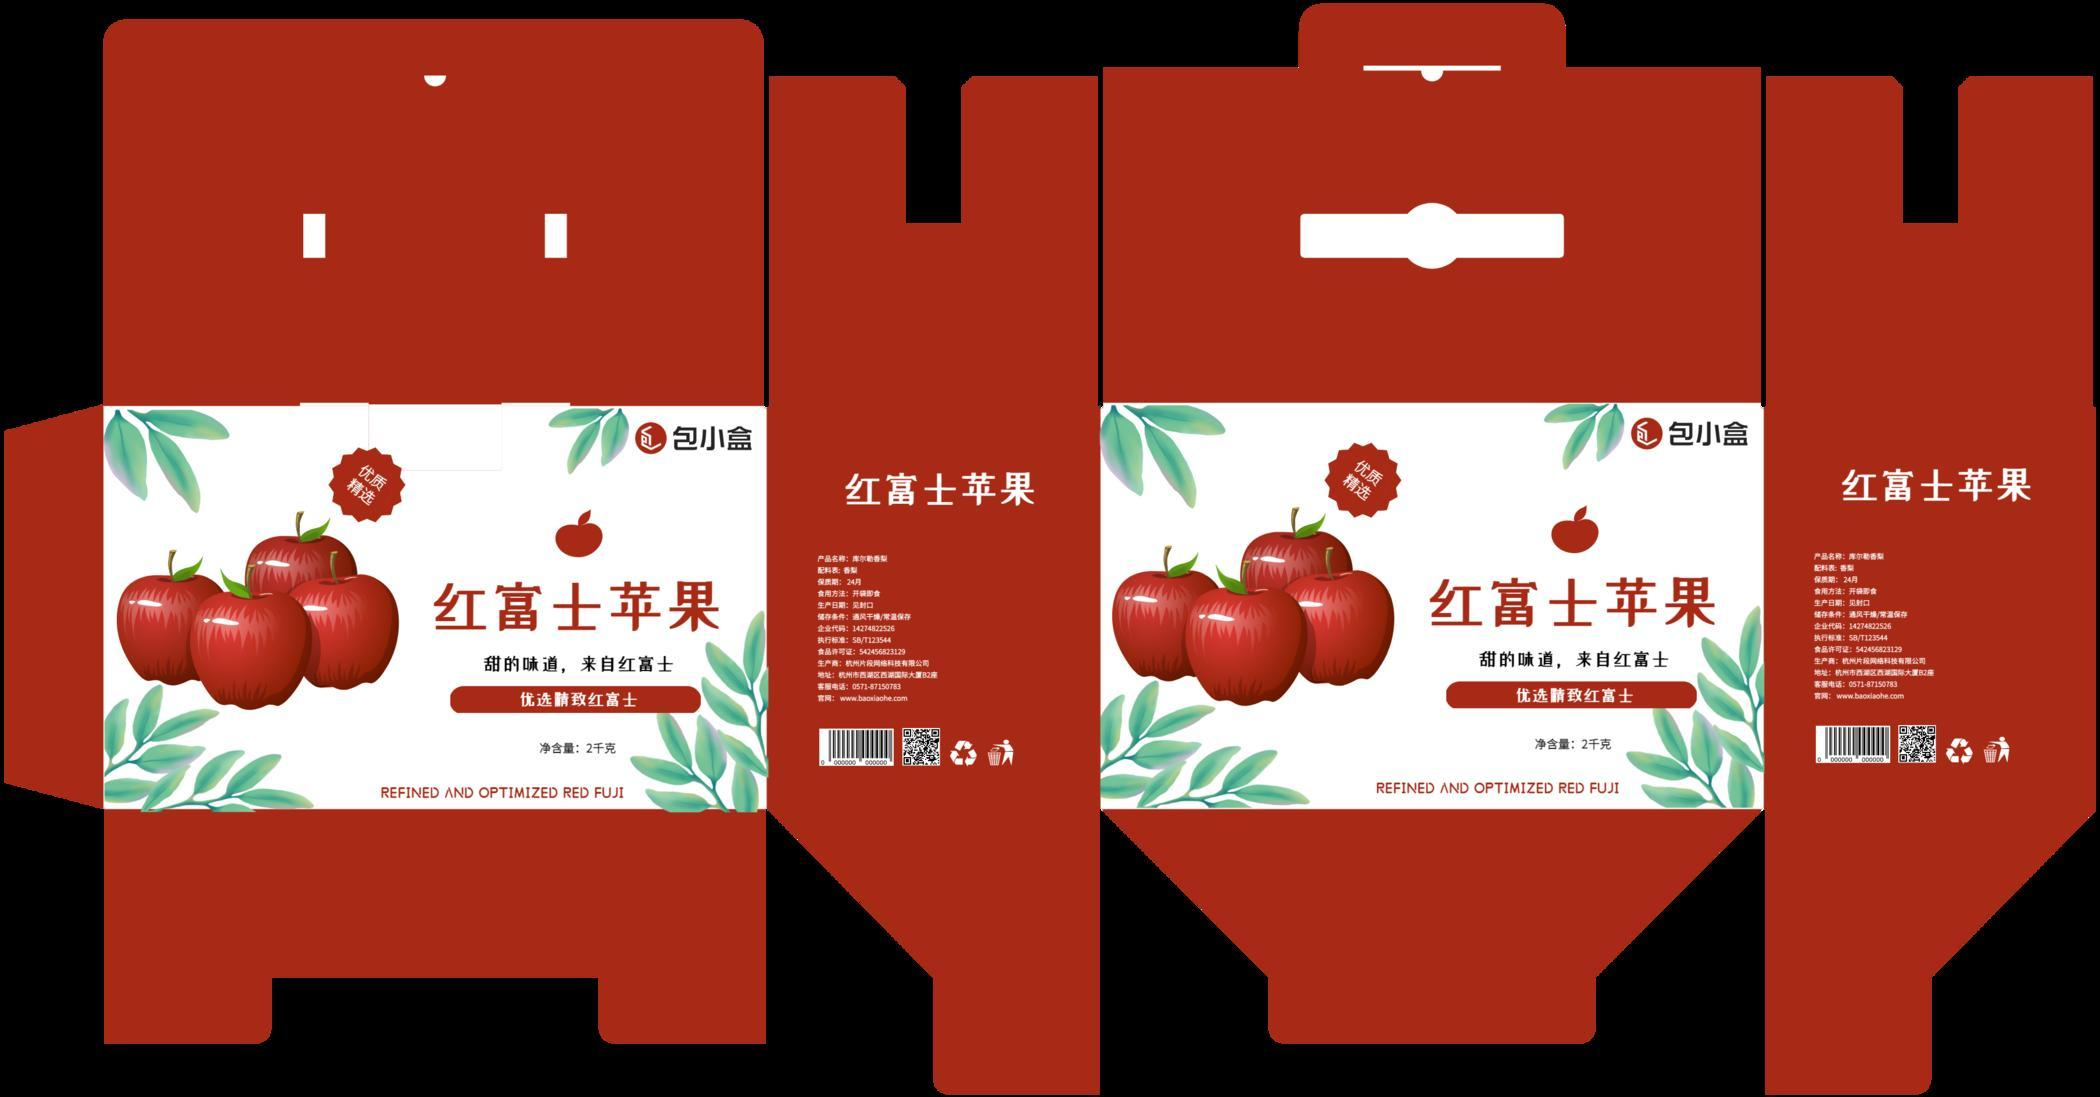apple: (187, 592, 307, 717), (1283, 565, 1401, 692), (1189, 583, 1300, 710), (283, 573, 401, 689), (112, 569, 219, 683), (1110, 568, 1215, 682), (244, 525, 358, 601), (1231, 528, 1362, 589)
